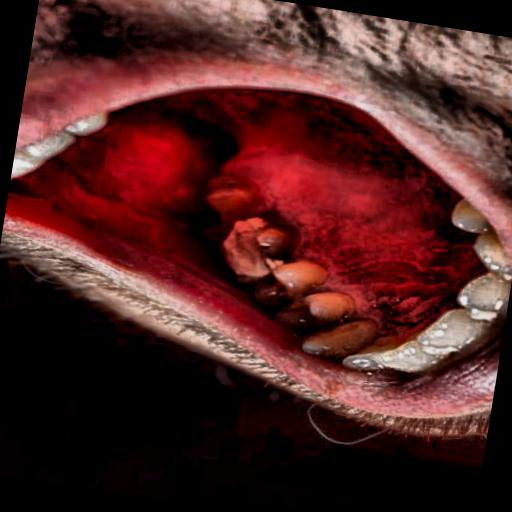Caries: (188, 164, 316, 298)
